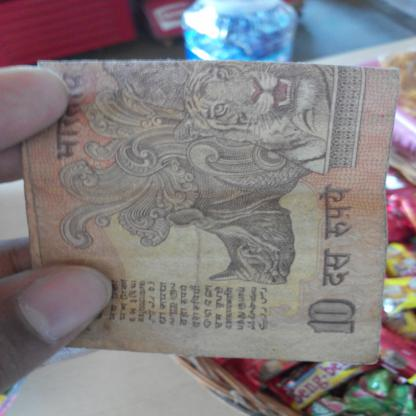Old10Back: (22, 59, 403, 367)
